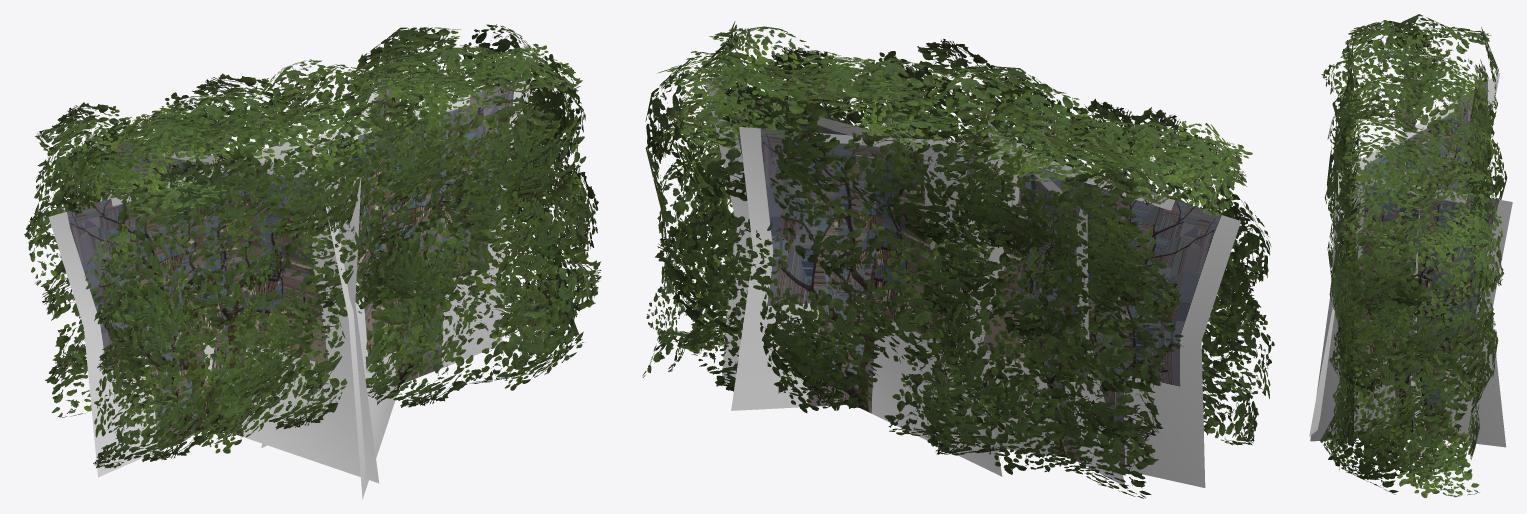
File: bushwall.FBX
3 renders of one model, left to right at view 1: azimuth 30°, elevation 25°; view 2: azimuth 150°, elevation 25°; view 3: azimuth 270°, elevation 25°, orthographic. The views are drawn at different scales.
Parts seen in each view (by area): view 1: Plane130; view 2: Plane130; view 3: Plane130.
Boxes of the visible parts, x1,y1,x2,y2 form: Plane130: (24,24,601,498); Plane130: (642,21,1274,498); Plane130: (1309,14,1512,497).
Size of the model in its own units: 169 by 115 by 62.46.
2 materials, 2 textured.
